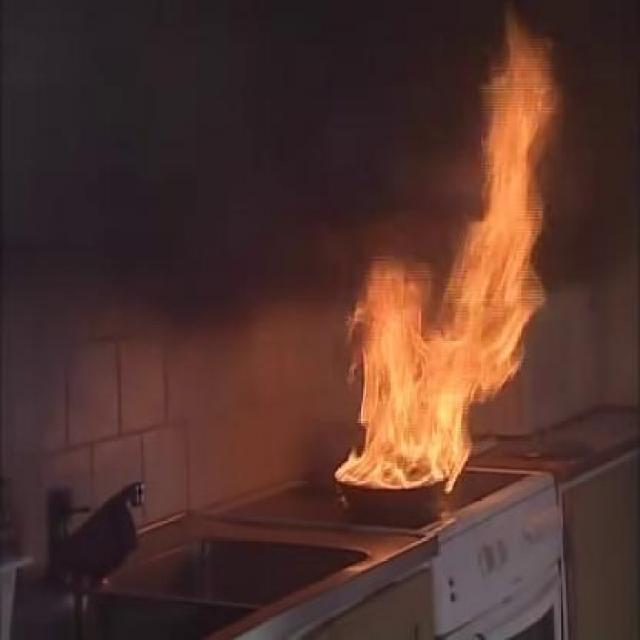fire: (342, 255, 484, 480), (464, 146, 570, 248)
smoke: (339, 134, 456, 243), (476, 5, 590, 116), (248, 238, 332, 316), (288, 336, 346, 442)
